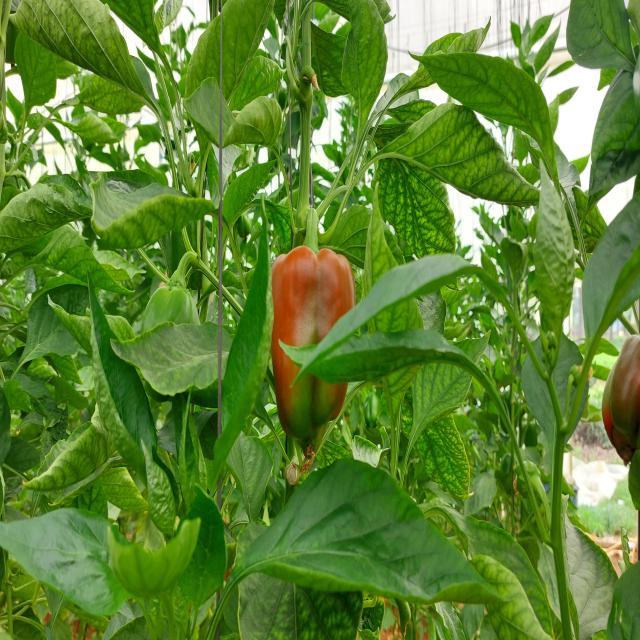BrownishRed--Can-be-Harvested: (268, 252, 356, 438)
